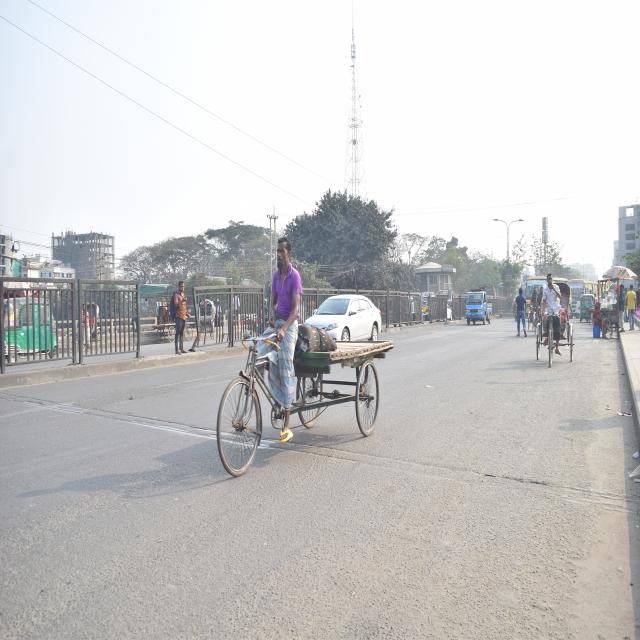bus: (572, 273, 589, 322)
car: (308, 293, 384, 348)
pickup-van: (463, 287, 492, 332)
